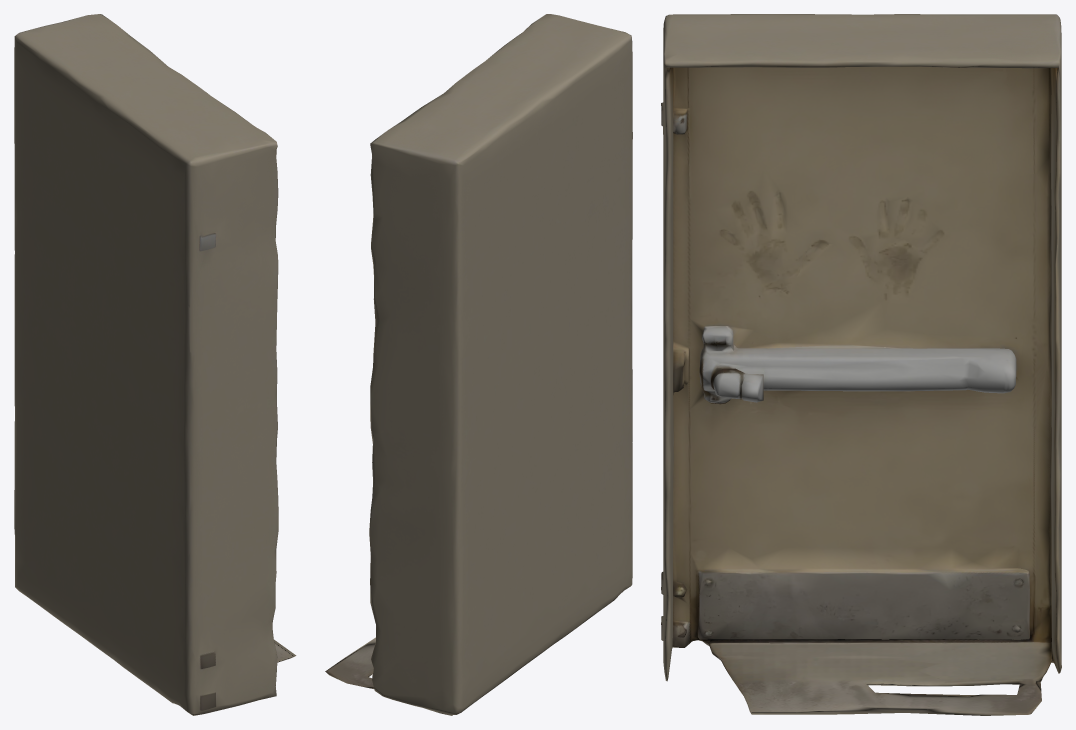
File: ExitDoor.glb
3 renders of one model, left to right at view 1: azimuth 30°, elevation 25°; view 2: azimuth 150°, elevation 25°; view 3: azimuth 270°, elevation 25°, orthographic. The views are drawn at different scales.
Visible parts, largest first — view 1: tripo_node_6ce4b2c4-eb83-4a31-9305-679ee090bf3e; view 2: tripo_node_6ce4b2c4-eb83-4a31-9305-679ee090bf3e; view 3: tripo_node_6ce4b2c4-eb83-4a31-9305-679ee090bf3e.
Boxes of the visible parts, bbox=[...] form: tripo_node_6ce4b2c4-eb83-4a31-9305-679ee090bf3e: bbox=[14, 14, 296, 715]; tripo_node_6ce4b2c4-eb83-4a31-9305-679ee090bf3e: bbox=[325, 14, 632, 715]; tripo_node_6ce4b2c4-eb83-4a31-9305-679ee090bf3e: bbox=[661, 14, 1061, 715].
Size of the model in its own units: 0.5567 by 2 by 1.16.
1 material, 1 textured.
